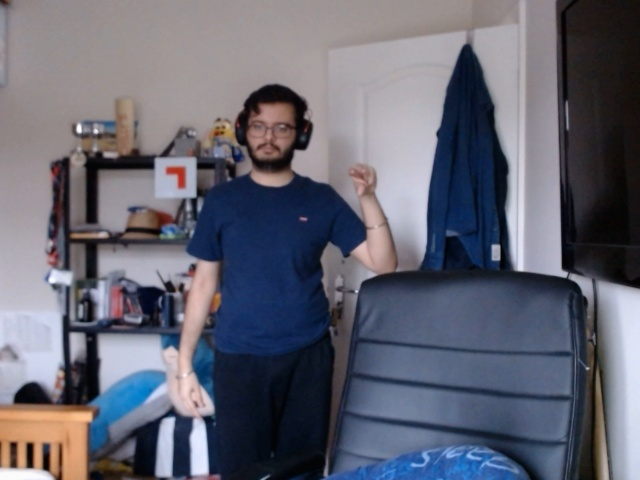No: (341, 157, 386, 206)
